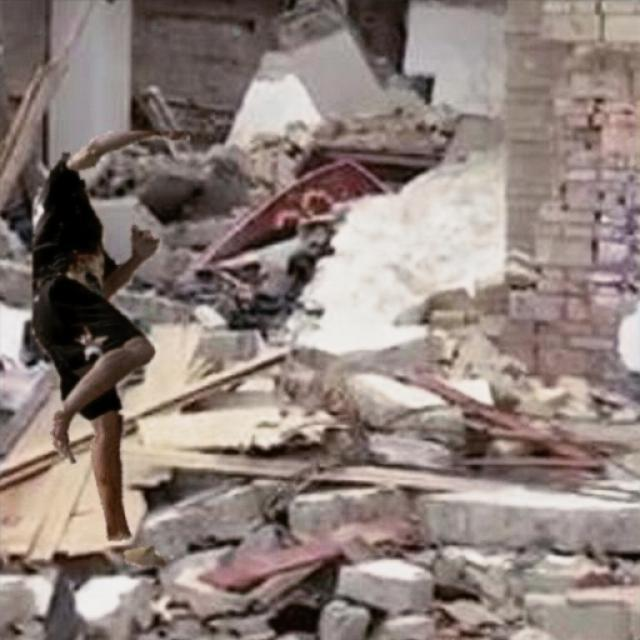Person in Rubble: (33, 132, 188, 568)
